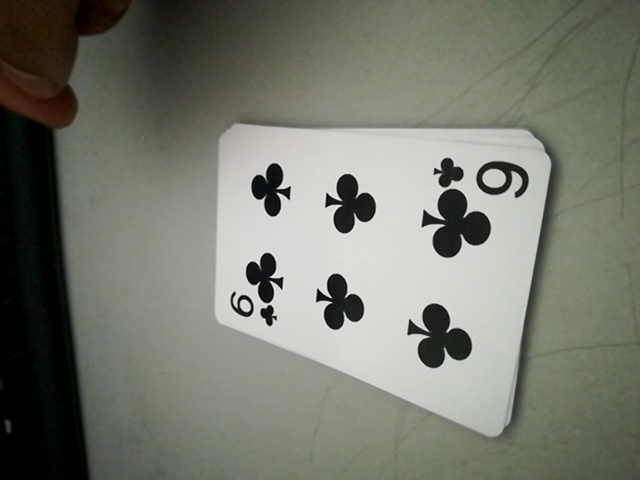mh 6: (436, 155, 534, 198), (223, 296, 283, 332)
